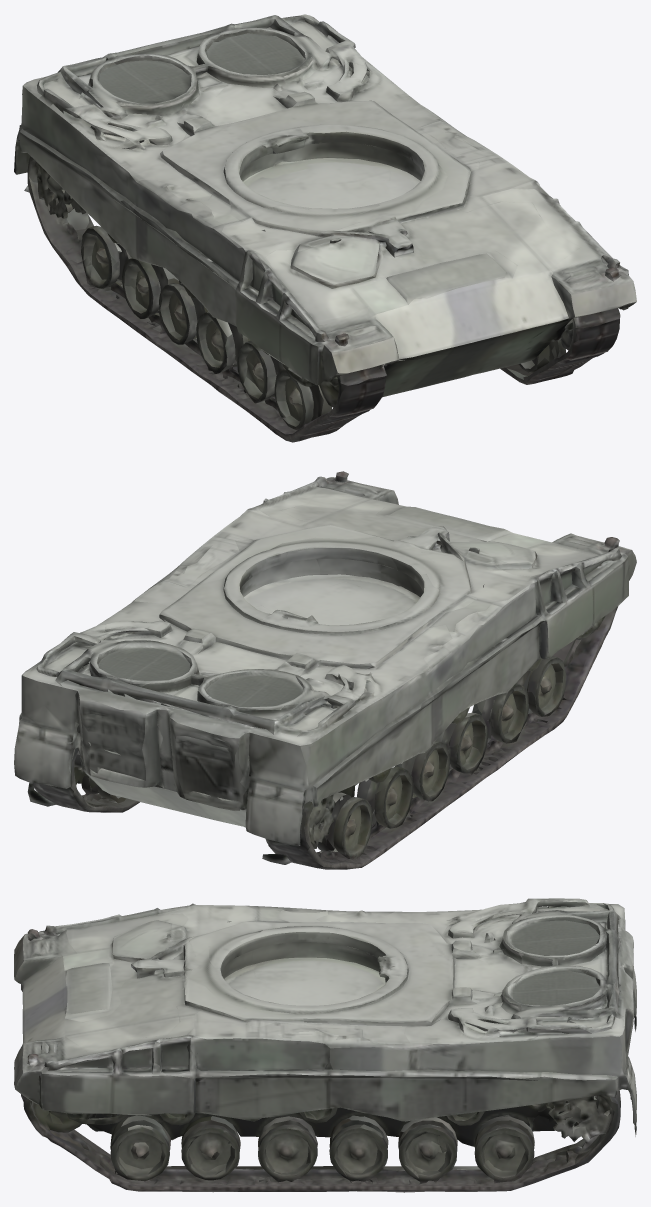
File: main_hull_v5.glb
3 views of the same model, one above another, from view 1: azimuth 30°, elevation 25°; view 2: azimuth 150°, elevation 25°; view 3: azimuth 270°, elevation 25° (orthographic). The views are drawn at different scales.
Visible parts, largest first — view 1: geometry_0; view 2: geometry_0; view 3: geometry_0.
Boxes of the visible parts, x1,y1,x2,y2 form: geometry_0: (14, 14, 636, 442); geometry_0: (14, 471, 636, 869); geometry_0: (14, 898, 636, 1192).
Bounding box in the file's own units: 6.5 × 3.64 × 11.87.
Materials: 1 (1 with a texture image).
